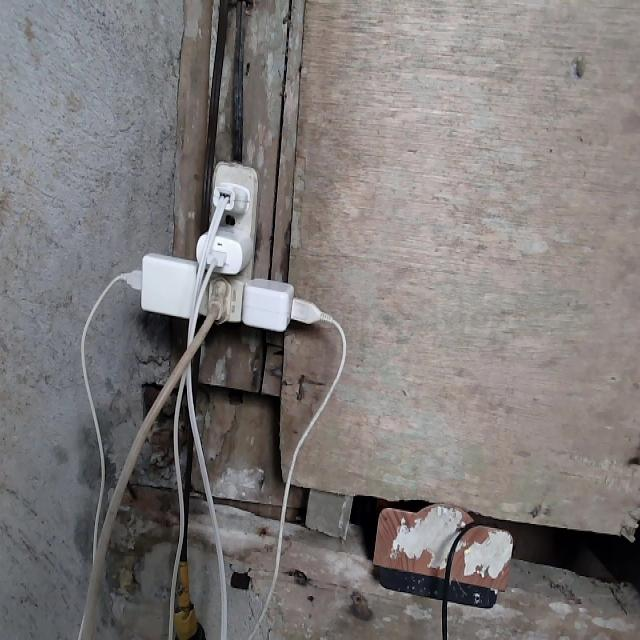-: (128, 159, 315, 337)
